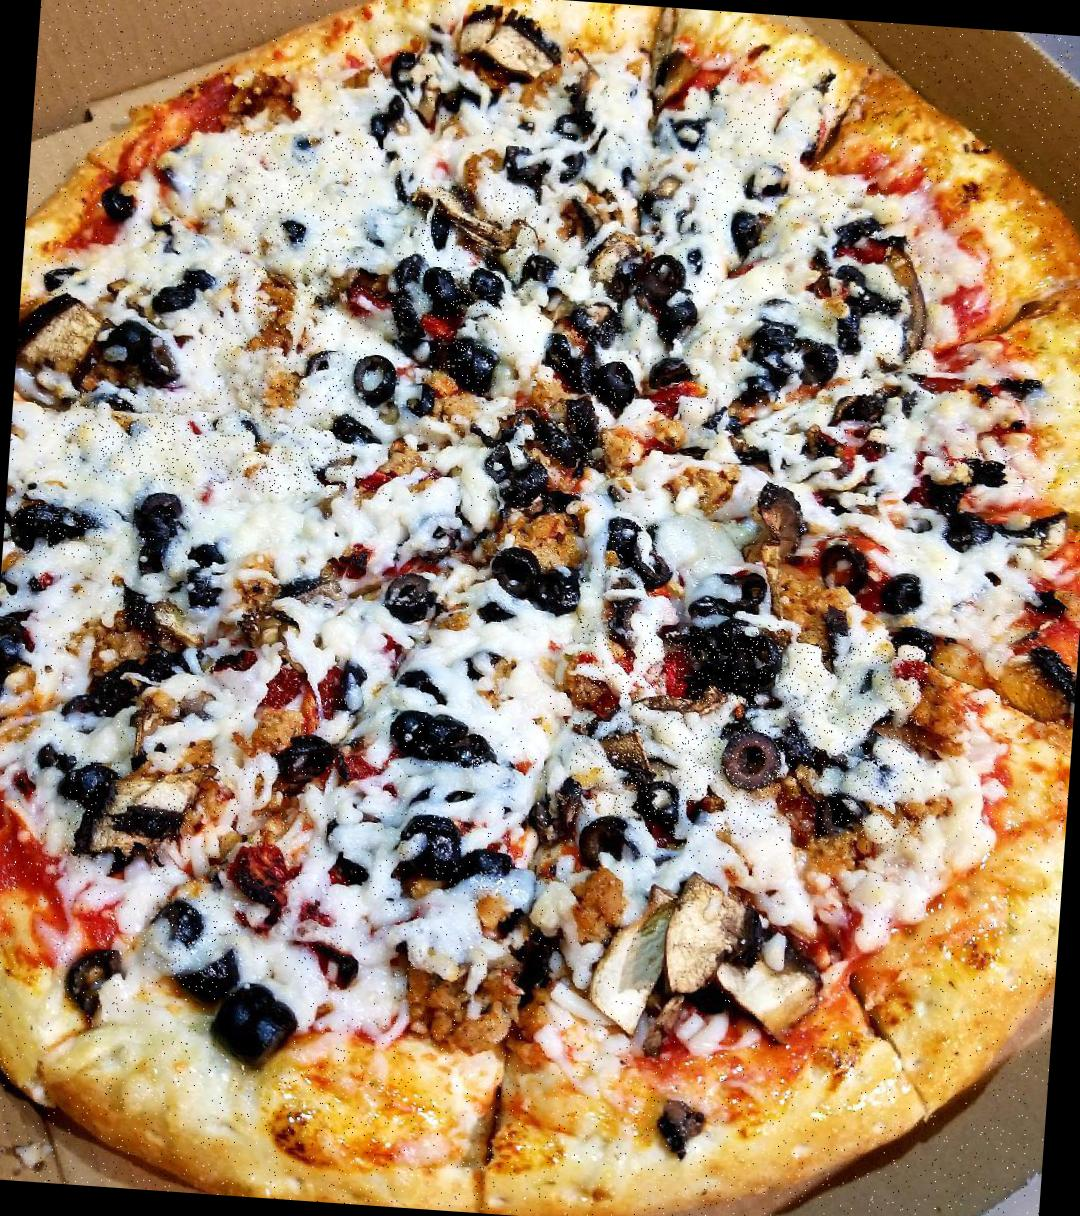Cheese: (566, 616, 933, 850), (204, 490, 564, 709), (678, 85, 888, 443), (653, 447, 1018, 639), (213, 130, 378, 410), (56, 391, 364, 501)
Mushroom: (649, 869, 829, 1043), (411, 180, 540, 289), (460, 4, 574, 93), (91, 770, 195, 859), (877, 241, 939, 366), (755, 473, 813, 569), (403, 45, 447, 129), (584, 238, 643, 289), (571, 199, 603, 238)
Olives: (689, 561, 785, 688), (59, 647, 186, 734), (141, 895, 242, 996), (391, 250, 508, 326), (214, 982, 297, 1071), (92, 316, 190, 392), (640, 246, 712, 347), (63, 761, 123, 874), (389, 710, 496, 773), (513, 397, 610, 467), (491, 546, 578, 621), (835, 263, 898, 358), (130, 492, 192, 588), (916, 447, 1011, 508), (741, 318, 801, 416), (10, 503, 106, 562), (602, 515, 674, 585), (431, 333, 500, 399), (397, 813, 462, 879), (59, 947, 123, 1010), (150, 267, 222, 322), (504, 147, 587, 193), (485, 462, 565, 507), (729, 901, 775, 975), (629, 780, 688, 836), (719, 727, 775, 786), (578, 812, 630, 872), (0, 610, 36, 694), (459, 847, 520, 897), (382, 573, 440, 624), (540, 333, 591, 392), (940, 507, 998, 559), (115, 596, 178, 641), (592, 351, 638, 413), (820, 539, 870, 595), (730, 208, 777, 268), (355, 352, 401, 407), (641, 189, 693, 234), (796, 338, 837, 394), (744, 159, 796, 201), (571, 300, 624, 341), (816, 789, 862, 835), (667, 116, 715, 159), (877, 571, 922, 614), (649, 355, 701, 391), (517, 249, 558, 288), (553, 109, 592, 141)
Pizza: (0, 0, 1080, 1216)
